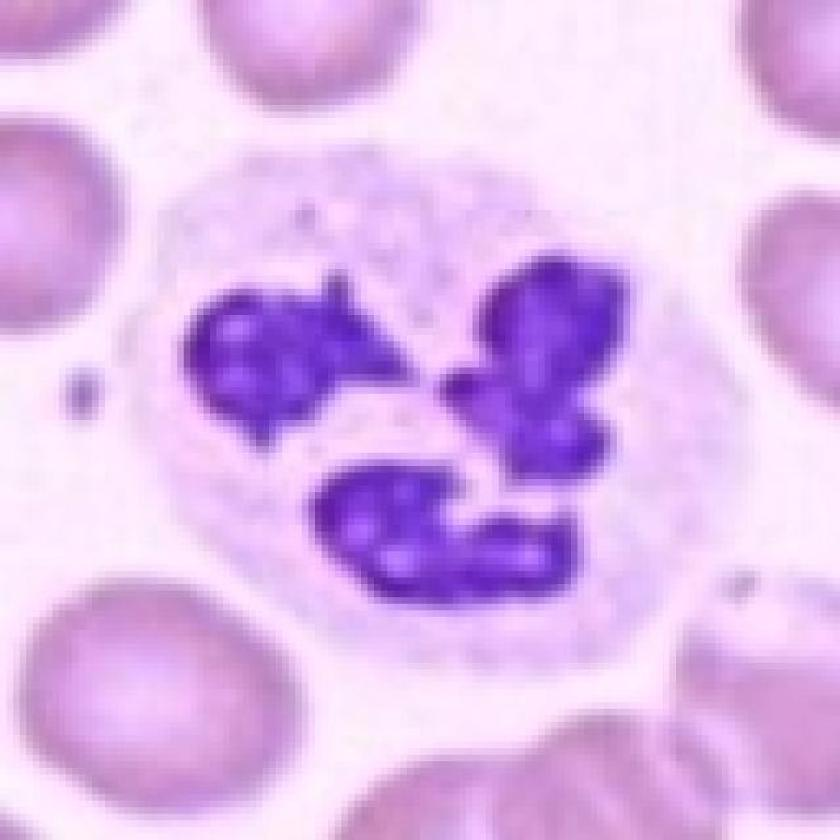neutrophil: (189, 164, 706, 695)
